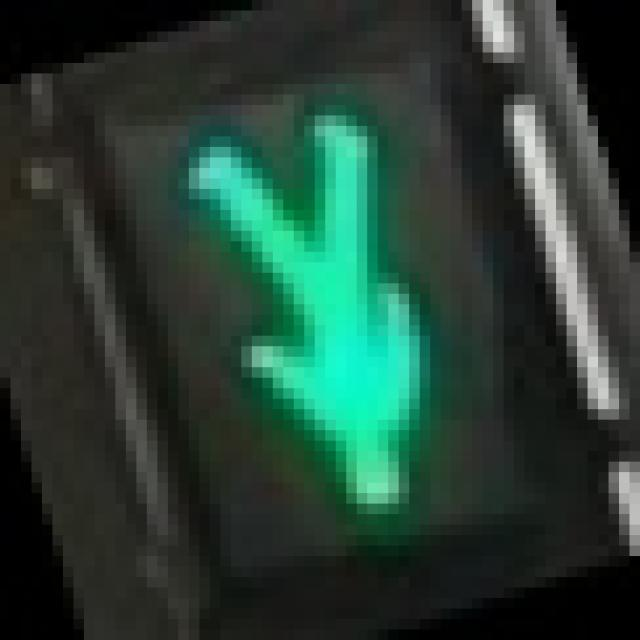geen-crossing: (126, 73, 483, 546)
